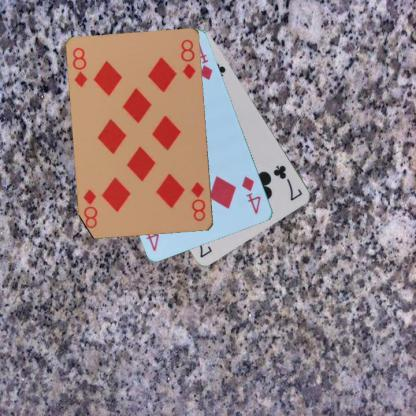4d: (240, 174, 262, 216)
7c: (271, 162, 304, 202)
8d: (188, 179, 207, 223), (70, 45, 89, 88)
